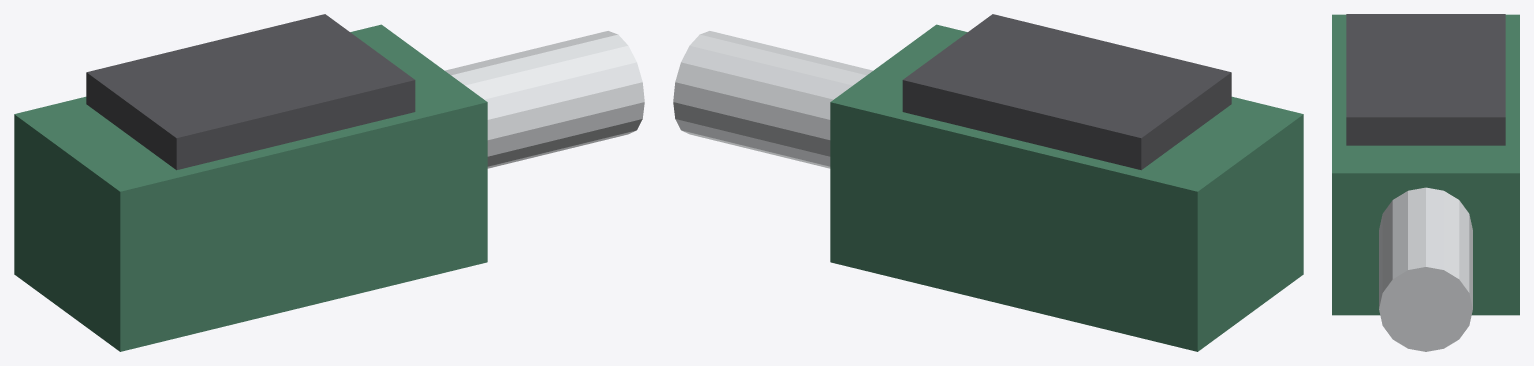
File: n20-gearmotor-100.glb
3 renders of one model, left to right at view 1: azimuth 30°, elevation 25°; view 2: azimuth 150°, elevation 25°; view 3: azimuth 270°, elevation 25°, orthographic. The views are drawn at different scales.
Visible parts, largest first — view 1: n20-gearmotor-100-pcb, n20-gearmotor-100-plastic, n20-gearmotor-100-metal; view 2: n20-gearmotor-100-pcb, n20-gearmotor-100-plastic, n20-gearmotor-100-metal; view 3: n20-gearmotor-100-pcb, n20-gearmotor-100-plastic, n20-gearmotor-100-metal.
Part boxes in pixels (bbox=[...]): n20-gearmotor-100-pcb: bbox=[14, 24, 487, 351]; n20-gearmotor-100-plastic: bbox=[86, 14, 415, 170]; n20-gearmotor-100-metal: bbox=[445, 31, 644, 168]; n20-gearmotor-100-pcb: bbox=[830, 24, 1303, 351]; n20-gearmotor-100-plastic: bbox=[902, 14, 1231, 170]; n20-gearmotor-100-metal: bbox=[673, 31, 872, 168]; n20-gearmotor-100-pcb: bbox=[1332, 14, 1519, 315]; n20-gearmotor-100-plastic: bbox=[1346, 14, 1505, 145]; n20-gearmotor-100-metal: bbox=[1379, 187, 1472, 351].
Bounding box in the file's own units: 0.036 × 0.012 × 0.012.
